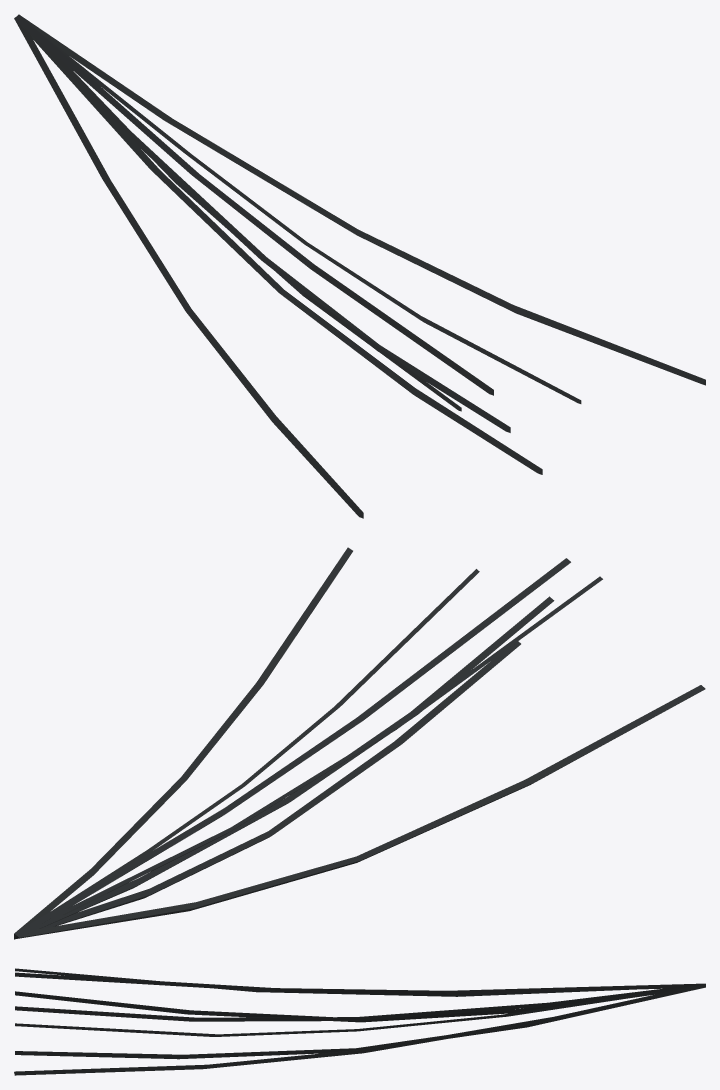
File: SM_Prop_Powerline_08.glb
The picture shows the model from 3 angles, top to bottom: view 1: azimuth 30°, elevation 25°; view 2: azimuth 150°, elevation 25°; view 3: azimuth 270°, elevation 25°; orthographic projection. The views are drawn at different scales.
Visible parts, largest first — view 1: SM_Prop_Powerline_08; view 2: SM_Prop_Powerline_08; view 3: SM_Prop_Powerline_08.
Boxes of the visible parts, <box> form: SM_Prop_Powerline_08: <box>14,14,705,518</box>; SM_Prop_Powerline_08: <box>14,547,705,939</box>; SM_Prop_Powerline_08: <box>14,968,705,1075</box>.
Bounding box in the file's own units: 3.05 × 0.8883 × 7.71.
Materials: 1 (1 with a texture image).
